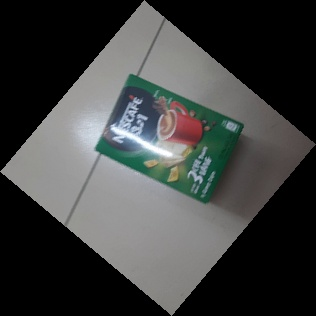Nes Rang: (93, 74, 245, 205)
